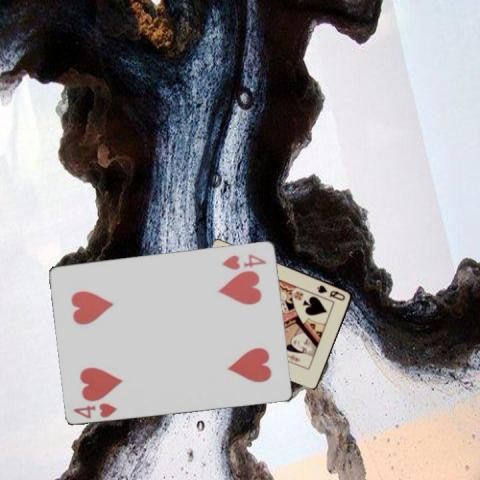4h: (70, 400, 118, 420), (219, 251, 268, 269)
Qs: (314, 282, 347, 302)
